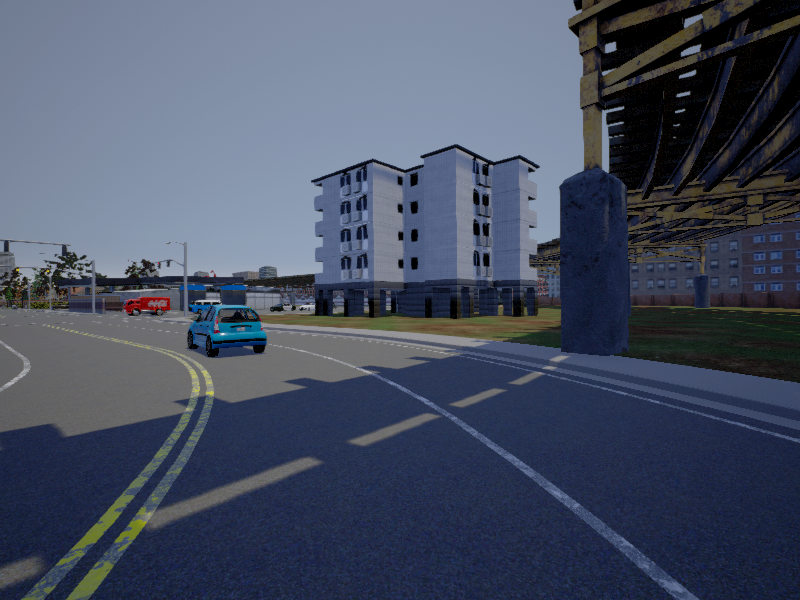Benign: (186, 304, 267, 358), (125, 296, 172, 316), (190, 297, 224, 316), (270, 301, 300, 313)
